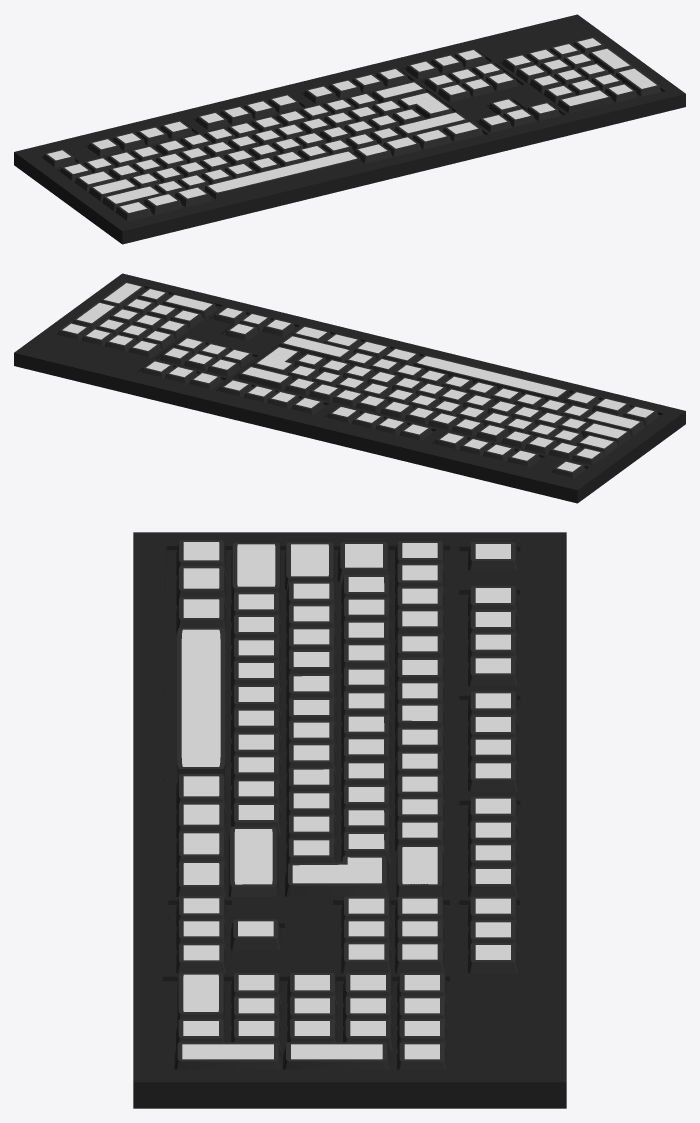
File: PCKeyboard.fbx
3 renders of one model, top to bottom at view 1: azimuth 30°, elevation 25°; view 2: azimuth 150°, elevation 25°; view 3: azimuth 270°, elevation 25°, orthographic. The views are drawn at different scales.
Parts seen in each view (by area): view 1: Keyboard; view 2: Keyboard; view 3: Keyboard.
Boxes of the visible parts, x1,y1,x2,y2 form: Keyboard: [14, 14, 685, 244]; Keyboard: [14, 273, 685, 503]; Keyboard: [133, 532, 566, 1108].
Size of what is drawn, in the model's own units: 48.64 by 1.5 by 16.2.
